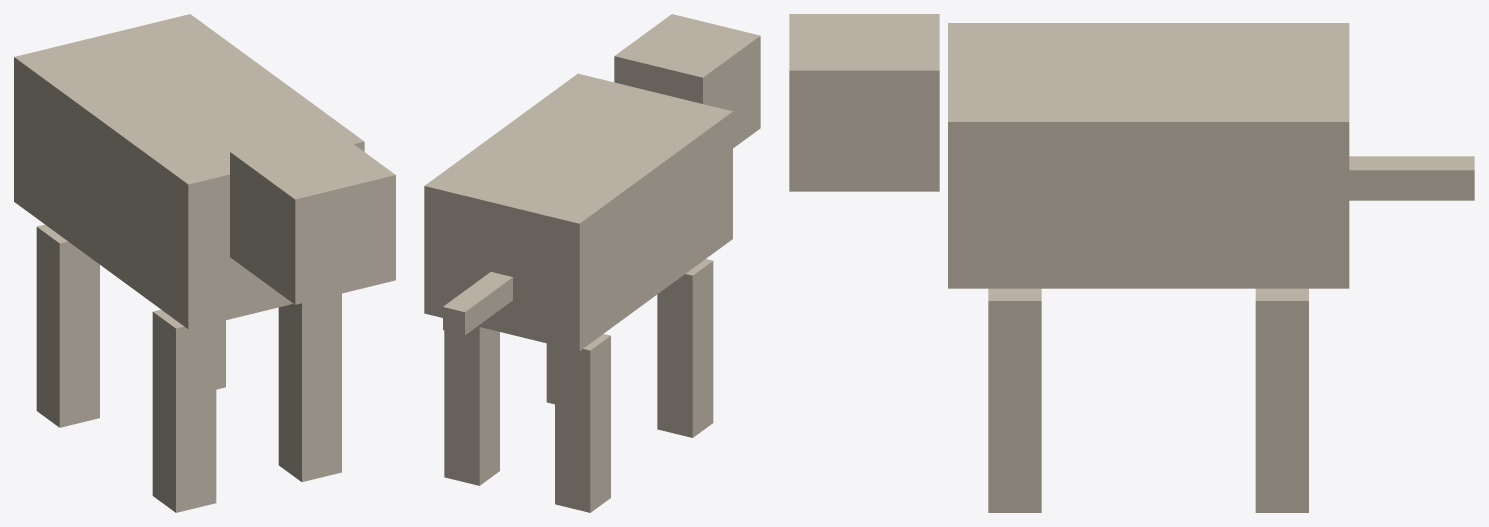
File: StandIn_Animal_Wolf.glb
3 renders of one model, left to right at view 1: azimuth 30°, elevation 25°; view 2: azimuth 150°, elevation 25°; view 3: azimuth 270°, elevation 25°, orthographic. The views are drawn at different scales.
Visible parts, largest first — view 1: StandIn_Animal_Wolf; view 2: StandIn_Animal_Wolf; view 3: StandIn_Animal_Wolf.
Part boxes in pixels (x1,y1,x2,y2): StandIn_Animal_Wolf: (14,14,395,512); StandIn_Animal_Wolf: (424,14,760,512); StandIn_Animal_Wolf: (789,14,1474,512).
Size of the model in its own units: 0.7 by 1.4 by 2.05.
